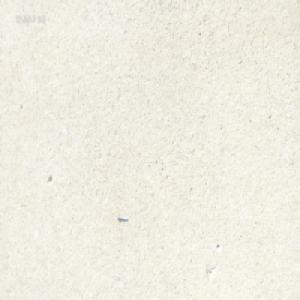Nail: (117, 214, 128, 222)
